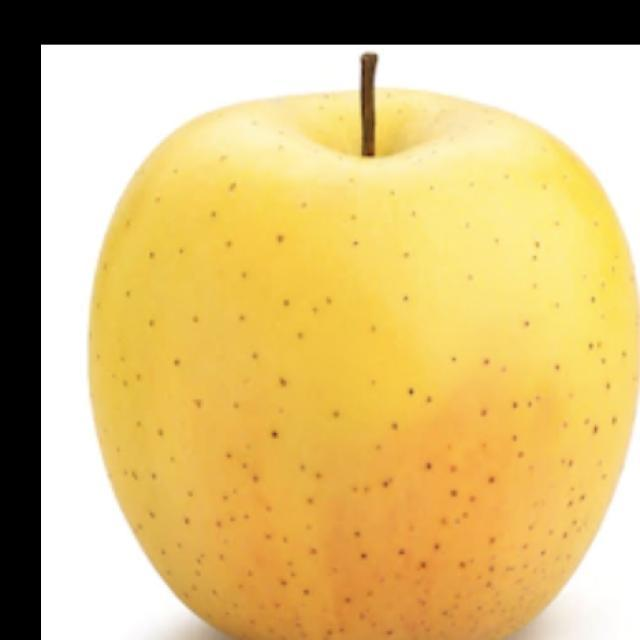Apple: (86, 51, 639, 639)
